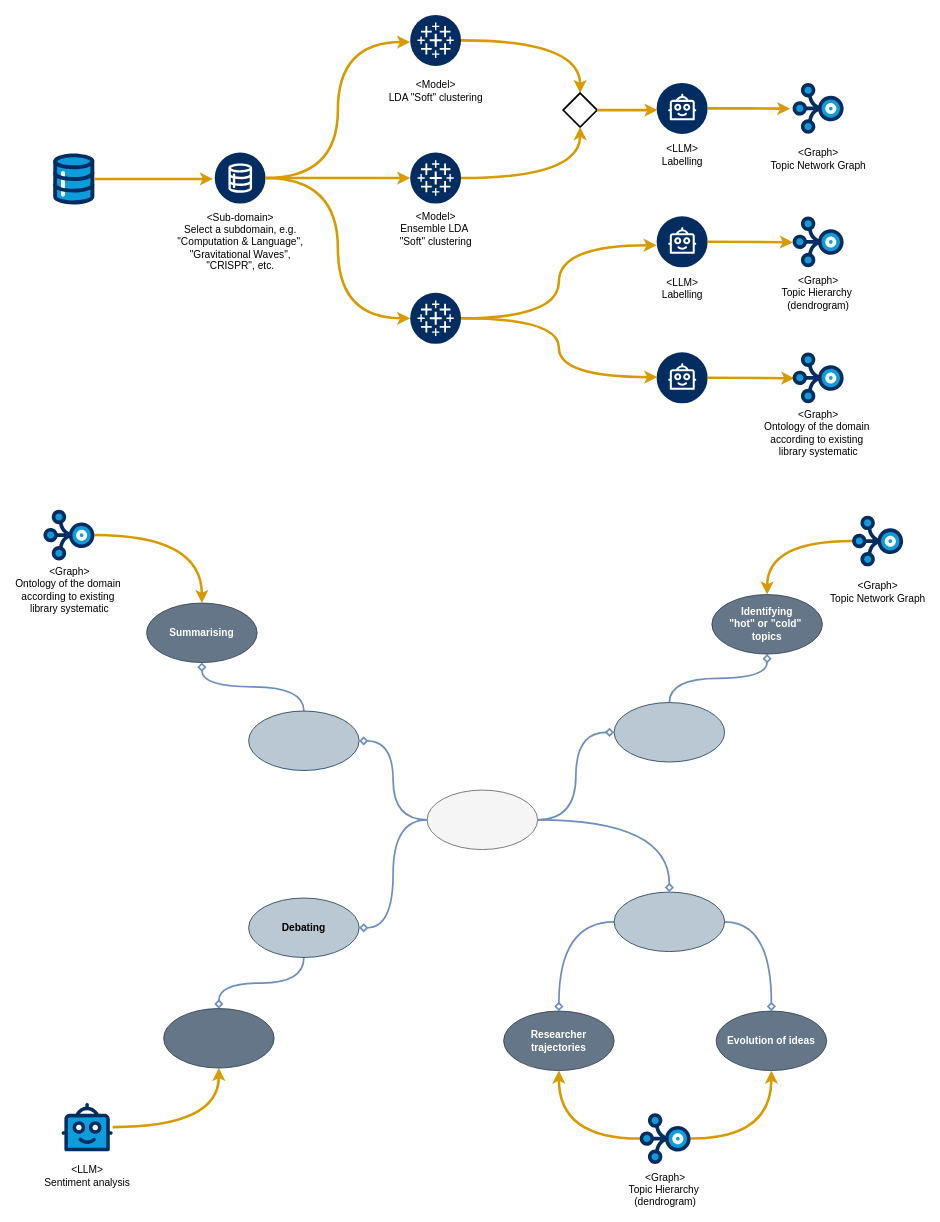
This 940x1222 diagram has some shape labels left out. Here are the shapes that lost their labels. From the top down, the box of each, then its label:
(562, 92, 598, 128): choose best model
(52, 153, 94, 204): <Data Source> arXiv / OpenAlex / bioRxiv
(409, 292, 461, 344): <Model> HDP "Hard" clustering
(656, 351, 708, 403): <LLM> Mapping
(248, 710, 359, 771): Explicating
(613, 702, 725, 762): Envisioning
(426, 789, 538, 850): Computational literature review (CLR)
(613, 891, 725, 952): Relating
(163, 1008, 274, 1068): Identifying good and bad research ideas
